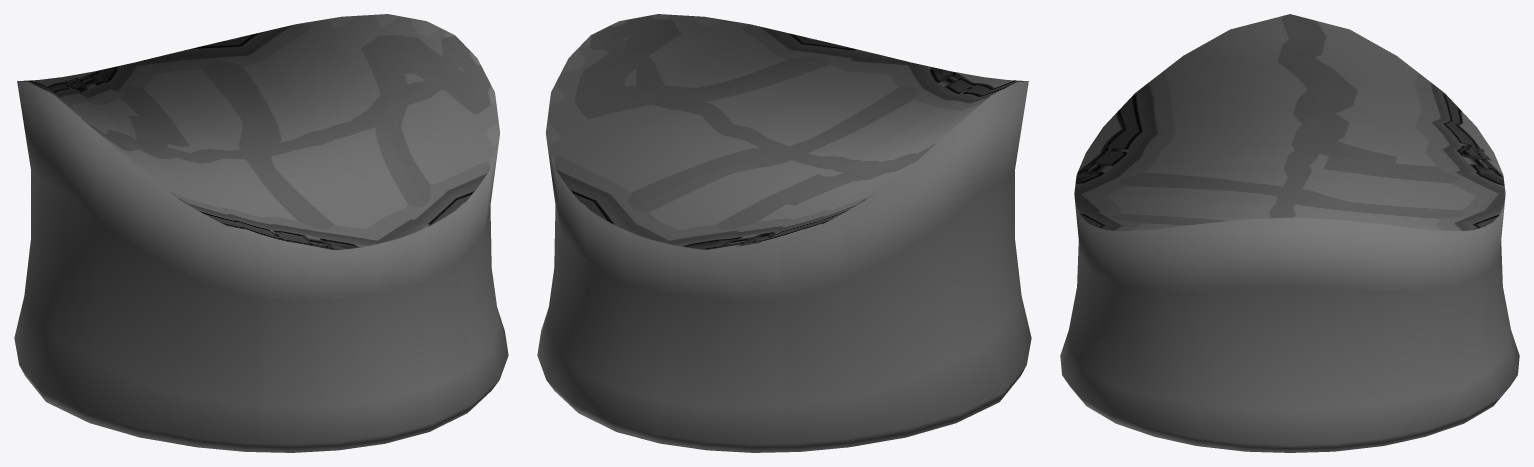
File: torso_1.dae
The picture shows the model from 3 angles, left to right: view 1: azimuth 30°, elevation 25°; view 2: azimuth 150°, elevation 25°; view 3: azimuth 270°, elevation 25°; orthographic projection. The views are drawn at different scales.
Visible parts, largest first — view 1: default; view 2: default; view 3: default.
Boxes of the visible parts, x1=… form: default: x1=14, y1=14, x2=508, y2=452; default: x1=537, y1=14, x2=1031, y2=452; default: x1=1060, y1=14, x2=1519, y2=452.
Size of the model in its own units: 0.2975 by 0.3178 by 0.2031.
Materials: 1 (1 with a texture image).
